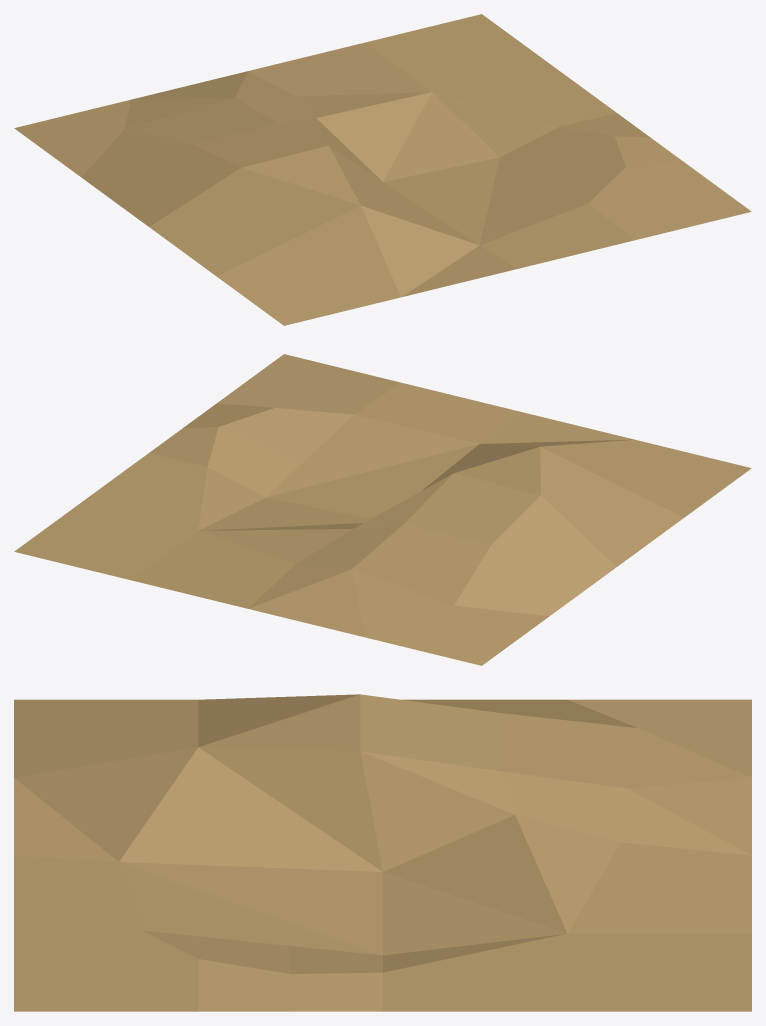
Rendered from Floor01.fbx.
3 renders of one model, top to bottom at view 1: azimuth 30°, elevation 25°; view 2: azimuth 150°, elevation 25°; view 3: azimuth 270°, elevation 25°, orthographic. The views are drawn at different scales.
Parts seen in each view (by area): view 1: Floor01; view 2: Floor01; view 3: Floor01.
Part boxes in pixels (x1,y1,x2,y2): Floor01: (14, 14, 751, 325); Floor01: (14, 354, 751, 665); Floor01: (14, 694, 751, 1011).
Bounding box in the file's own units: 2032 × 257 × 2032.
